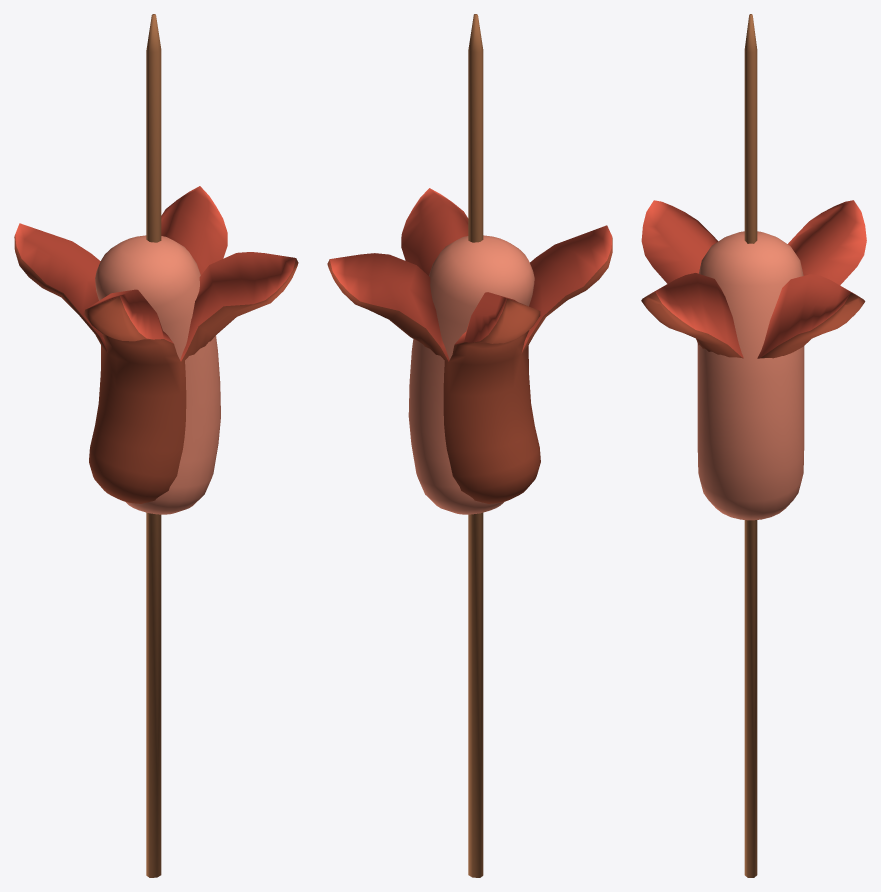
The model's file is sausage.fbx.
The picture shows the model from 3 angles, left to right: view 1: azimuth 30°, elevation 25°; view 2: azimuth 150°, elevation 25°; view 3: azimuth 270°, elevation 25°; orthographic projection.
Parts seen in each view (by area): view 1: Cylinder.012, Cylinder.006, Cylinder.007; view 2: Cylinder.012, Cylinder.006, Cylinder.007; view 3: Cylinder.006, Cylinder.012, Cylinder.007.
Boxes of the visible parts, <box> form: Cylinder.012: <box>14,186,298,503</box>; Cylinder.006: <box>95,235,220,514</box>; Cylinder.007: <box>146,14,161,877</box>; Cylinder.012: <box>327,188,612,503</box>; Cylinder.006: <box>408,235,534,514</box>; Cylinder.007: <box>468,14,483,877</box>; Cylinder.006: <box>697,231,804,520</box>; Cylinder.012: <box>641,200,866,358</box>; Cylinder.007: <box>744,14,757,877</box>.
Bounding box in the file's own units: 0.6013 × 2.42 × 0.5766.
